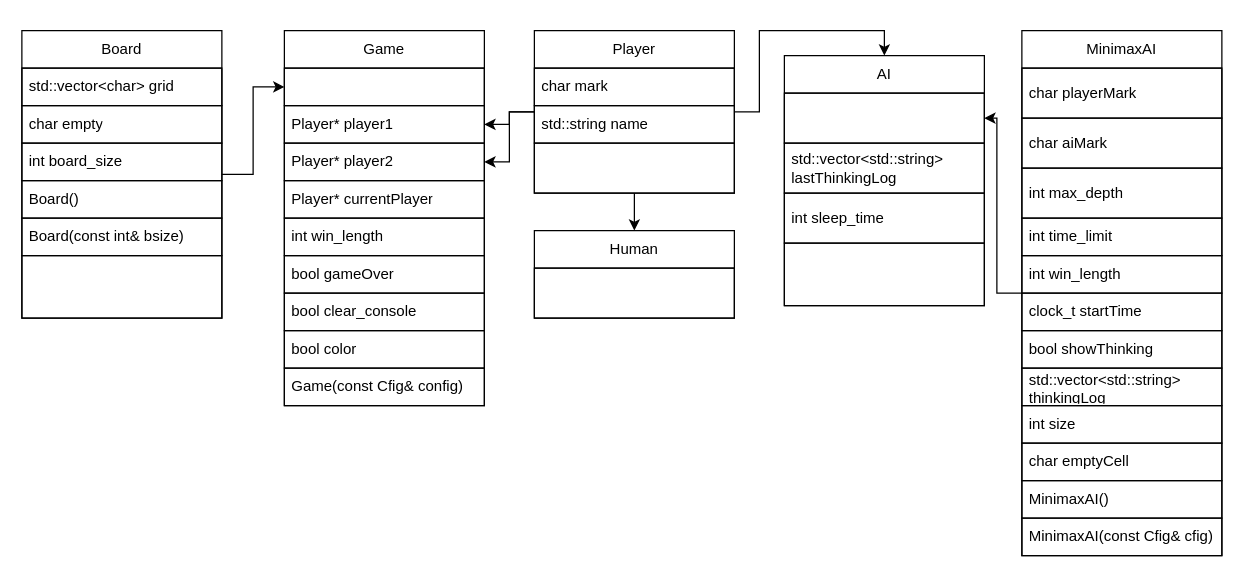
Image size: 1244x578. Some labels were removed from this diagram. The centre of each missing label's shape, as x and y in pixels:
"AI(const char& c, const std::string& m, const Cfig& cfig)" goes at (x=883, y=274).
"Board board" goes at (x=383, y=86).
"Board(const int& bsize, const char& empty_symbol)" goes at (x=121, y=286).
"Human(const char& c, const std::string& m)" goes at (x=633, y=292).
"MinimaxAI aiEngine" goes at (x=883, y=117).
"Player(const char& c, const std::string& m)" goes at (x=633, y=167).
